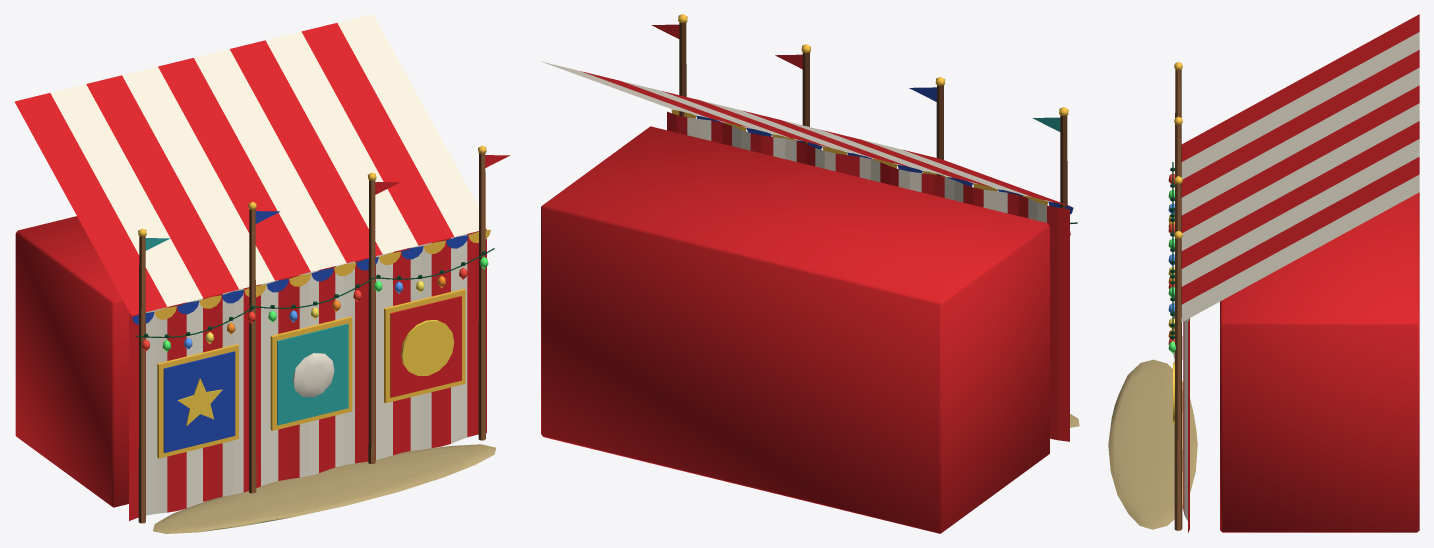
The model's file is CircusWallB.fbx.
3 views of the same model, side by side, from view 1: azimuth 30°, elevation 25°; view 2: azimuth 150°, elevation 25°; view 3: azimuth 270°, elevation 25° (orthographic). The views are drawn at different scales.
Parts seen in each view (by area): view 1: CircusWallB; view 2: CircusWallB; view 3: CircusWallB.
Part boxes in pixels (x1,y1,x2,y2): CircusWallB: (14,14,510,533); CircusWallB: (541,14,1079,533); CircusWallB: (1108,14,1419,532).
Size of the model in its own units: 8 by 6.8 by 5.62.
Materials: 2 (2 with a texture image).
